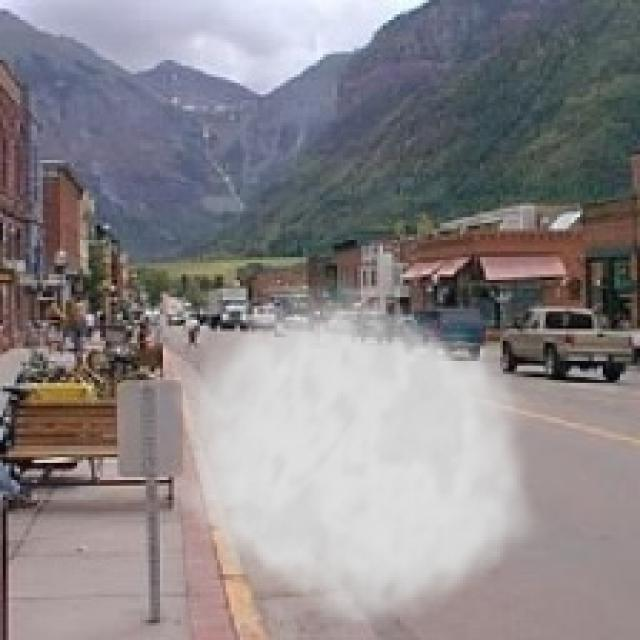Smoke: (168, 268, 548, 638)
